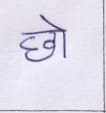o_matra: (55, 21, 70, 58)
